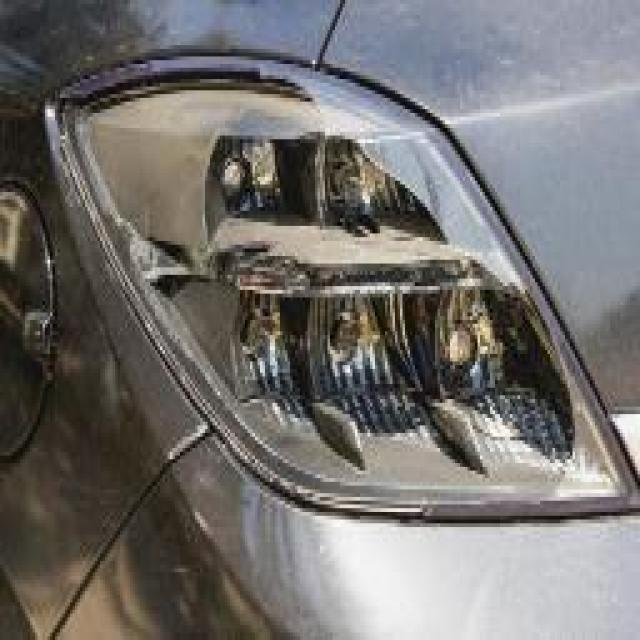Light: (90, 72, 582, 508)
